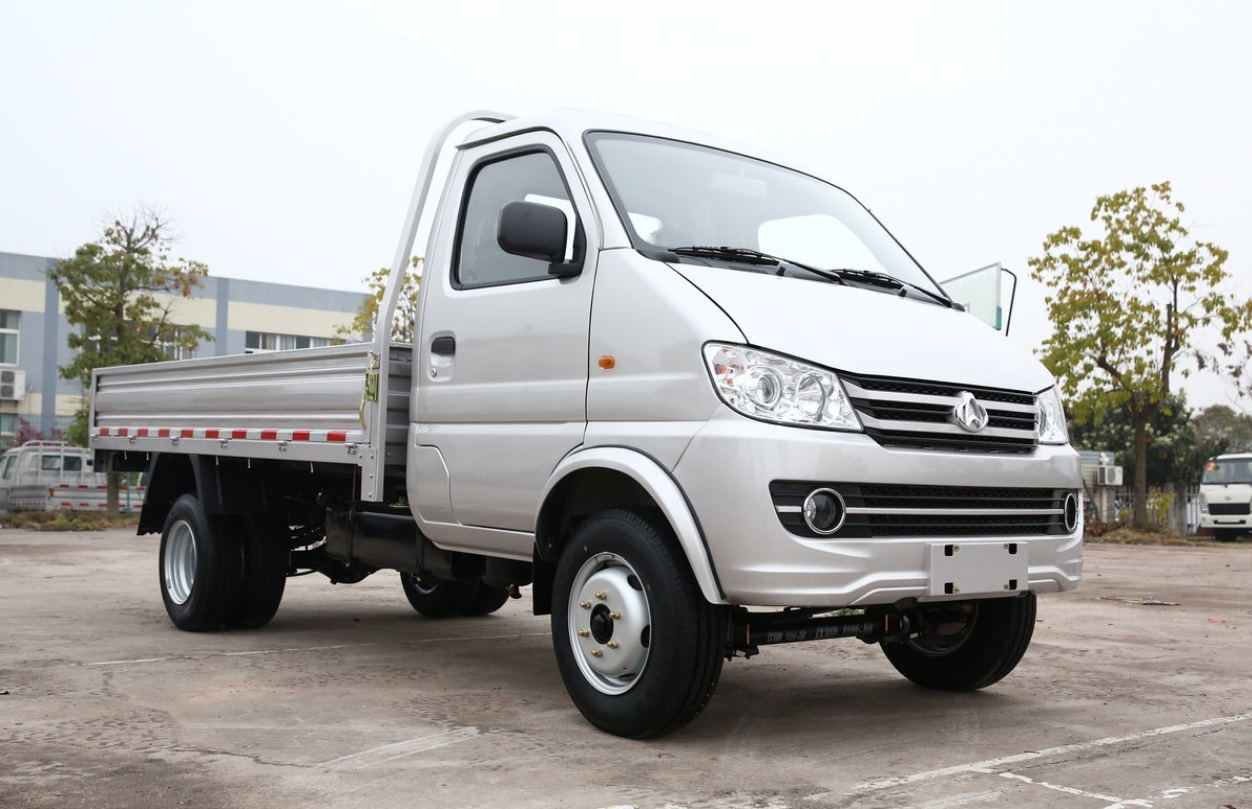truck: (105, 104, 1097, 730)
